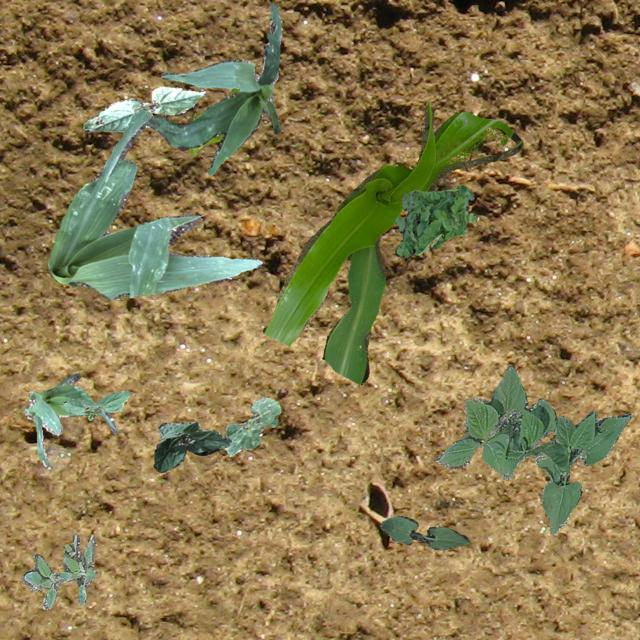crop: (262, 102, 522, 384), (46, 108, 260, 300), (432, 364, 630, 534), (144, 0, 280, 174), (22, 372, 118, 466), (82, 86, 204, 132), (152, 421, 230, 472), (188, 86, 238, 156), (223, 396, 280, 456), (380, 514, 468, 548), (59, 390, 130, 420)
weed: (20, 532, 96, 610), (394, 184, 476, 256)
